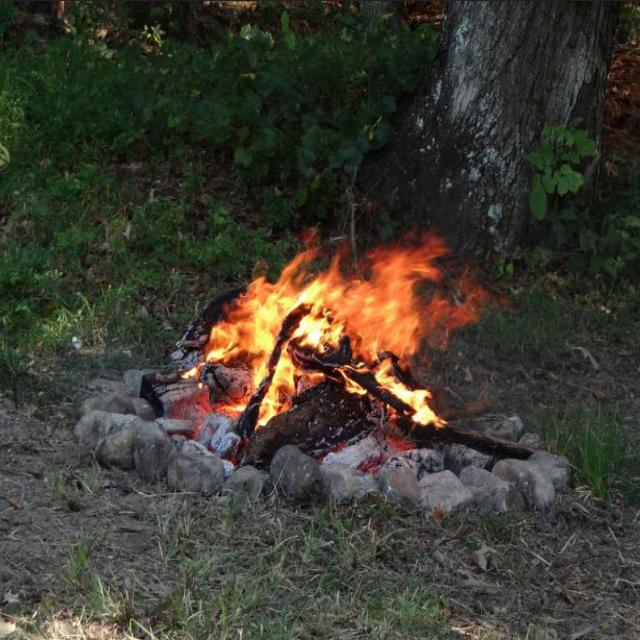fire: (193, 223, 449, 434)
